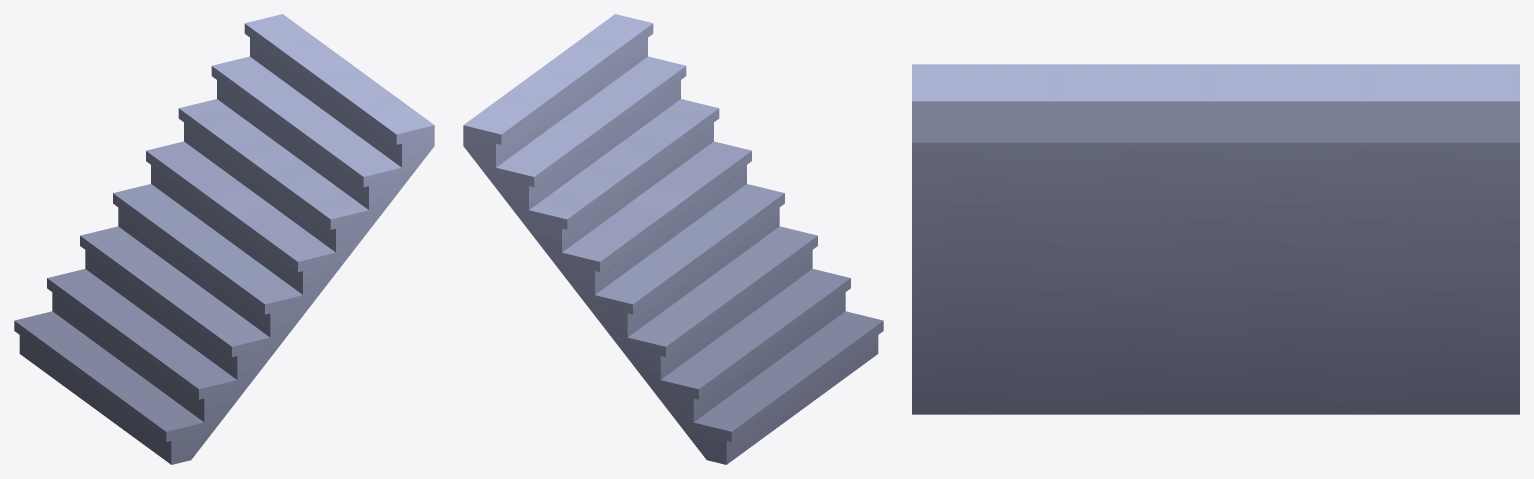
Rendered from stairsWideStone.fbx.
The picture shows the model from 3 angles, left to right: view 1: azimuth 30°, elevation 25°; view 2: azimuth 150°, elevation 25°; view 3: azimuth 270°, elevation 25°; orthographic projection. The views are drawn at different scales.
Parts seen in each view (by area): view 1: stairsWideStone; view 2: stairsWideStone; view 3: stairsWideStone.
Part boxes in pixels (bbox=[...]): stairsWideStone: bbox=[14, 14, 434, 464]; stairsWideStone: bbox=[463, 14, 883, 464]; stairsWideStone: bbox=[912, 64, 1519, 414].
Bounding box in the file's own units: 1.02 × 1 × 1.
